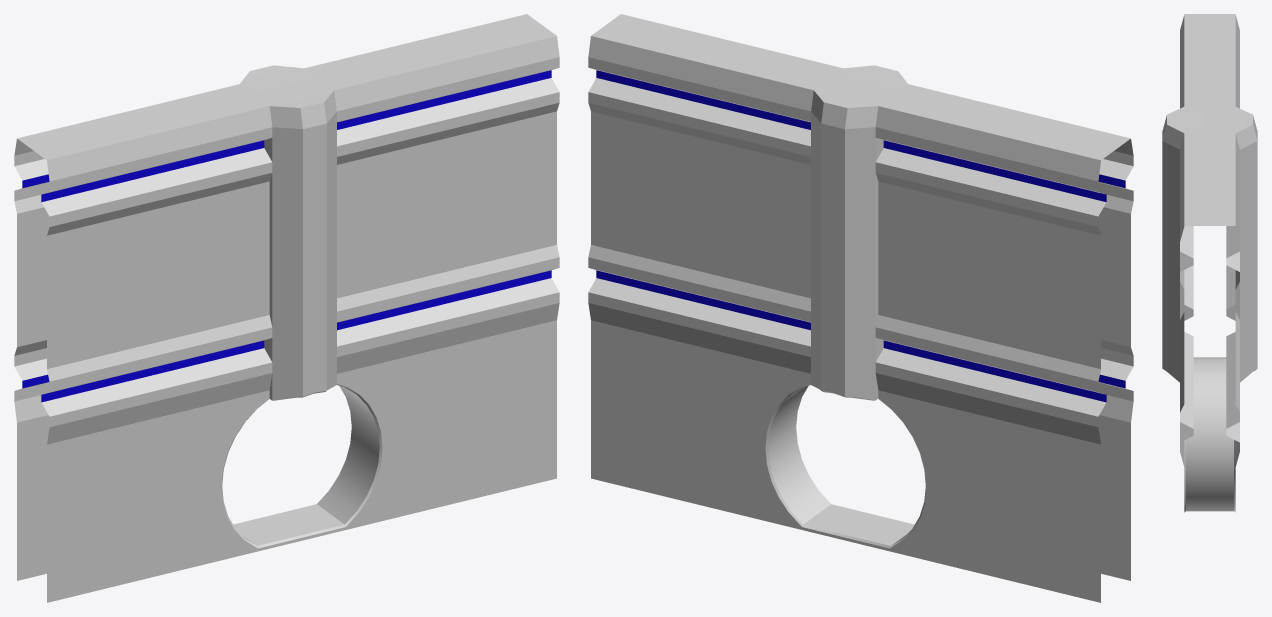
The model's file is WallDoor.fbx.
The picture shows the model from 3 angles, left to right: view 1: azimuth 30°, elevation 25°; view 2: azimuth 150°, elevation 25°; view 3: azimuth 270°, elevation 25°; orthographic projection. The views are drawn at different scales.
Visible parts, largest first — view 1: FortressWallMesh.001; view 2: FortressWallMesh.001; view 3: FortressWallMesh.001.
Part boxes in pixels (x1,y1,x2,y2): FortressWallMesh.001: [14, 14, 559, 602]; FortressWallMesh.001: [588, 14, 1133, 602]; FortressWallMesh.001: [1162, 14, 1257, 512].
Size of the model in its own units: 1600 by 1328 by 303.
